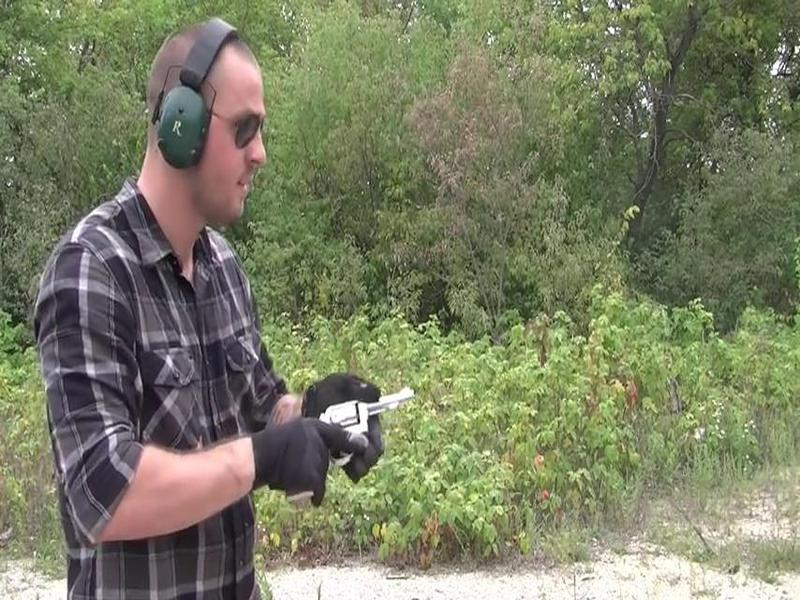Revolver: (290, 368, 422, 506)
